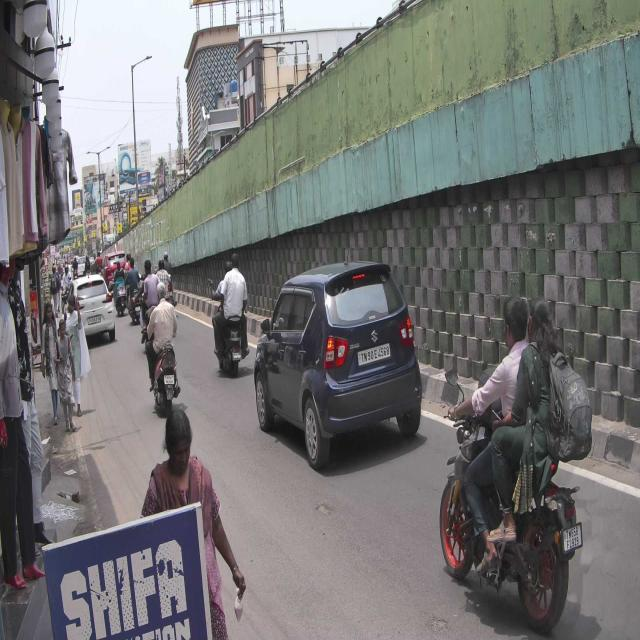double_rider: (439, 292, 583, 633)
